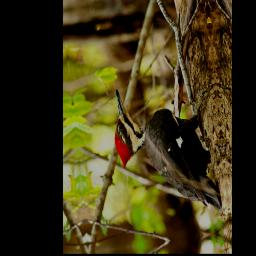Woodpecker: (110, 73, 223, 225)
